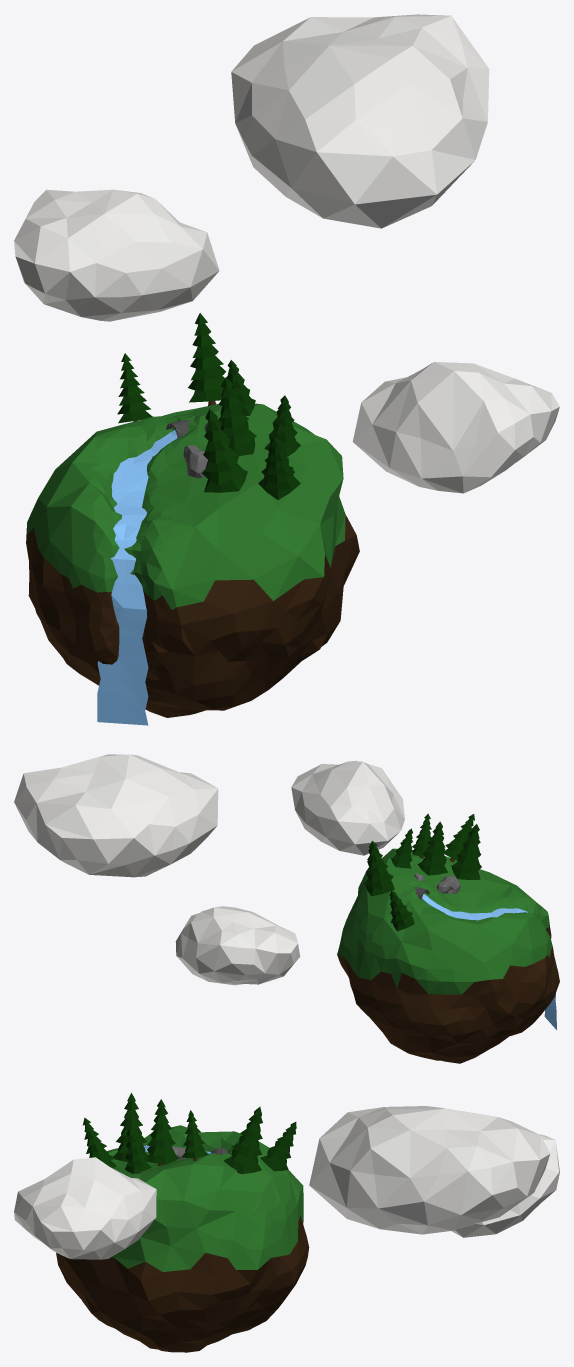
Rendered from island.glb.
The picture shows the model from 3 angles, top to bottom: view 1: azimuth 30°, elevation 25°; view 2: azimuth 150°, elevation 25°; view 3: azimuth 270°, elevation 25°; orthographic projection. The views are drawn at different scales.
Visible parts, largest first — view 1: Object_9, Object_3, Object_2, Object_11, Object_8; view 2: Object_9, Object_3, Object_2, Object_11, Object_8; view 3: Object_9, Object_3, Object_2, Object_11.
Boxes of the visible parts, x1,y1,x2,y2 form: Object_9: [14, 14, 559, 493]; Object_3: [27, 403, 345, 609]; Object_2: [26, 515, 359, 717]; Object_11: [117, 313, 300, 499]; Object_8: [97, 430, 177, 725]; Object_9: [14, 754, 404, 985]; Object_3: [337, 848, 552, 994]; Object_2: [337, 922, 559, 1063]; Object_11: [364, 813, 481, 931]; Object_8: [422, 894, 556, 1029]; Object_9: [14, 1106, 559, 1259]; Object_3: [107, 1125, 303, 1271]; Object_2: [56, 1215, 309, 1352]; Object_11: [82, 1093, 296, 1173].
Size of the model in its own units: 4.42 by 3.26 by 4.46.
